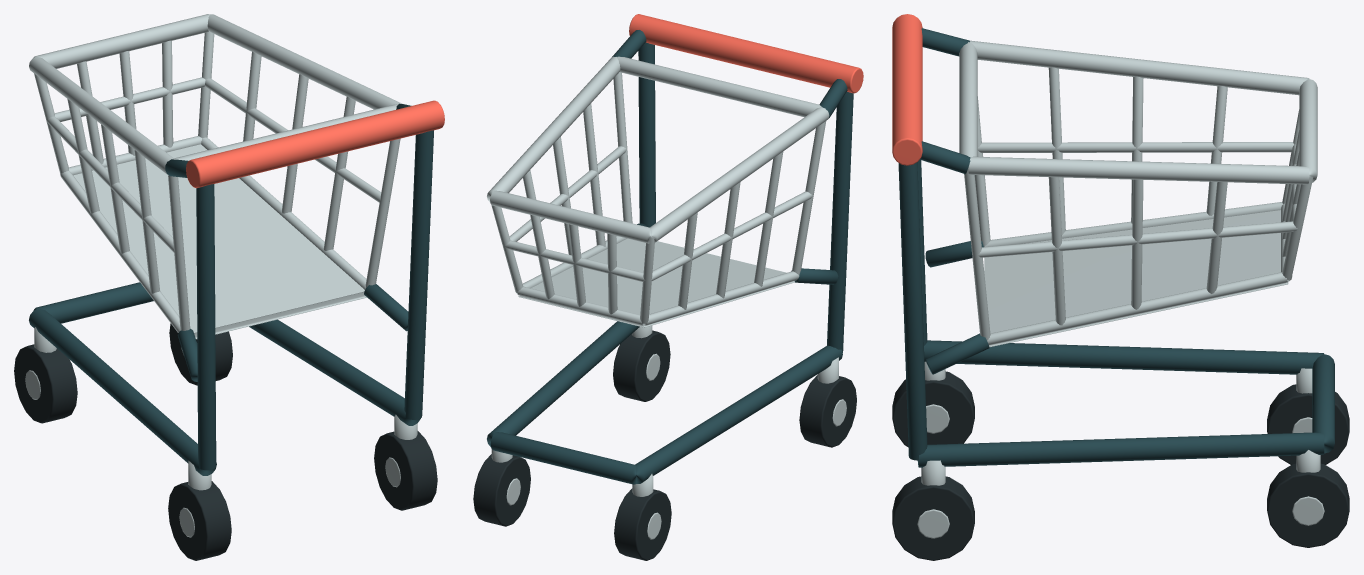
Rendered from d07_trolley_shelter_02.glb.
3 renders of one model, left to right at view 1: azimuth 30°, elevation 25°; view 2: azimuth 150°, elevation 25°; view 3: azimuth 270°, elevation 25°, orthographic. The views are drawn at different scales.
Visible parts, largest first — view 1: D07TrolleyShelter02_Mesh; view 2: D07TrolleyShelter02_Mesh; view 3: D07TrolleyShelter02_Mesh.
Part boxes in pixels (x1,y1,x2,y2): D07TrolleyShelter02_Mesh: [14, 14, 444, 560]; D07TrolleyShelter02_Mesh: [473, 14, 863, 560]; D07TrolleyShelter02_Mesh: [892, 14, 1349, 560].
Size of the model in its own units: 0.68 by 1.08 by 1.05.
